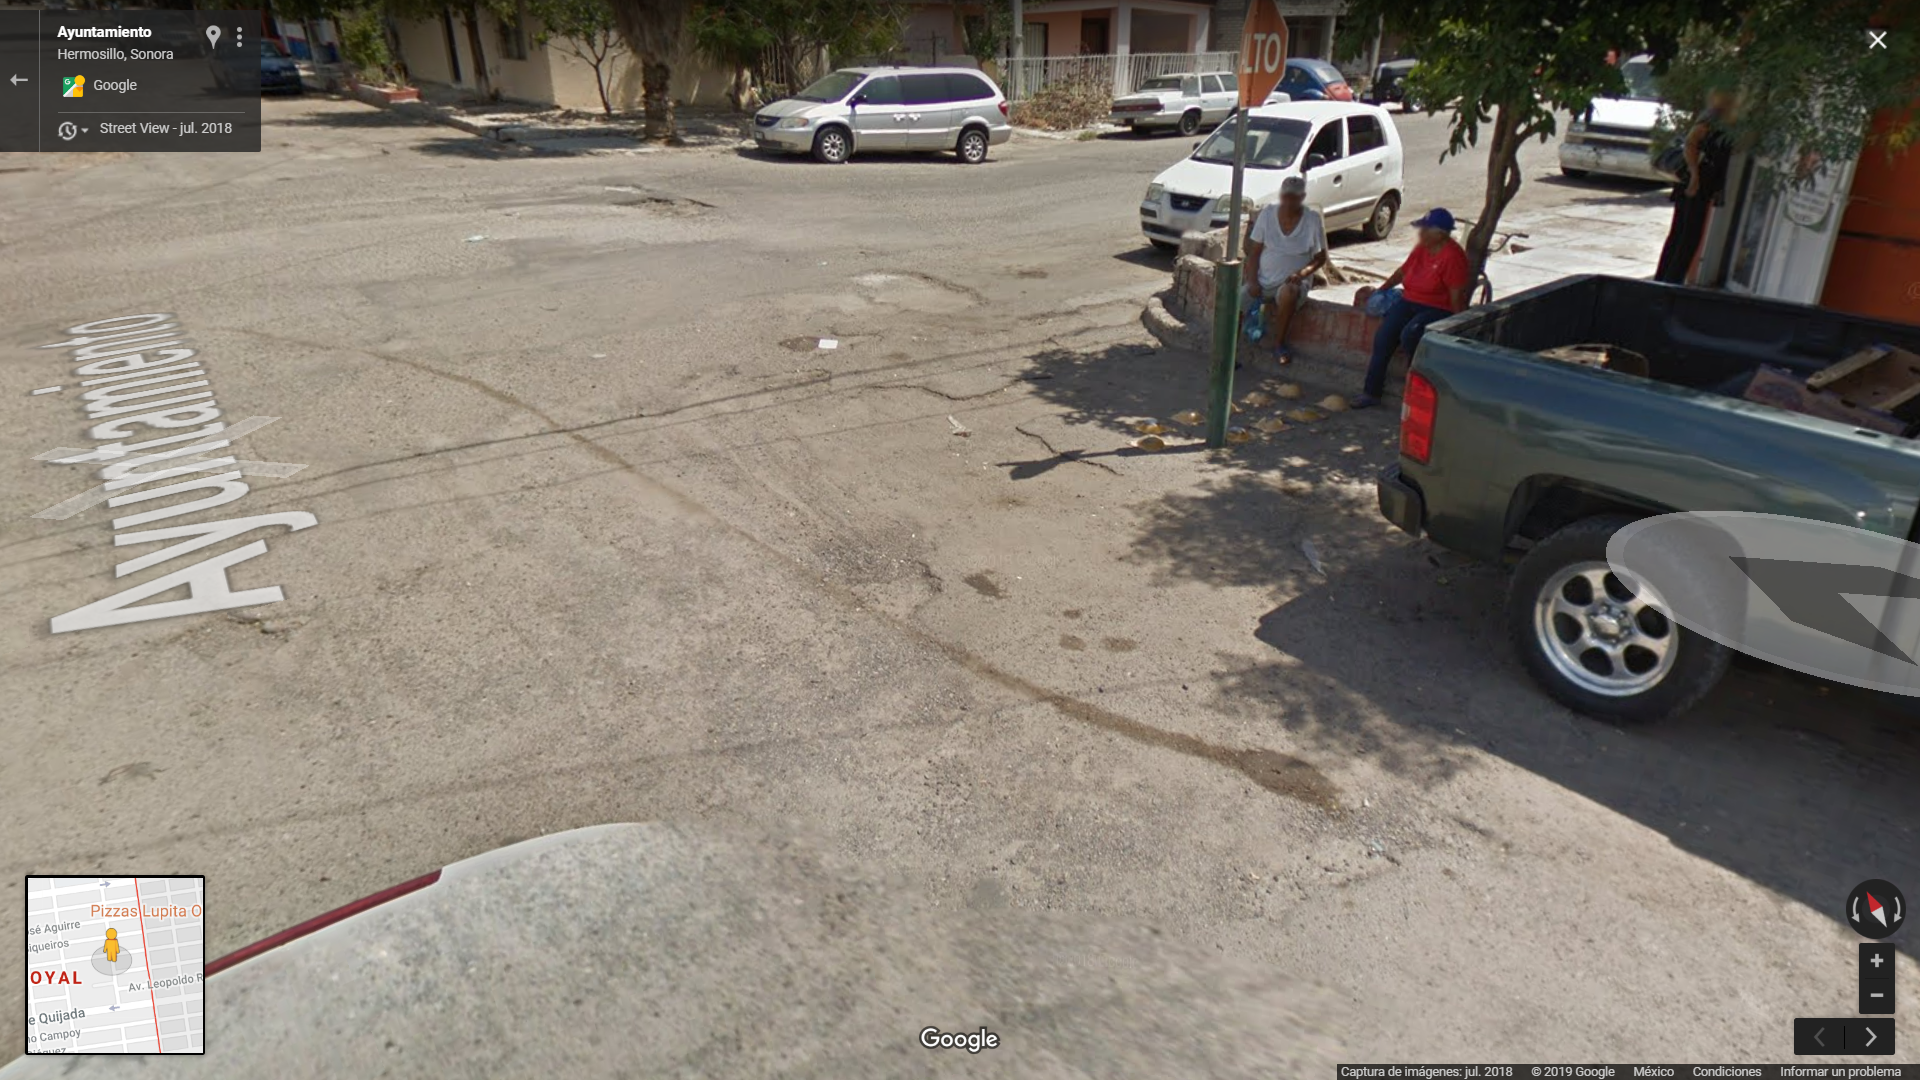pothole: (851, 243, 985, 326), (855, 545, 955, 629), (611, 177, 717, 236)
